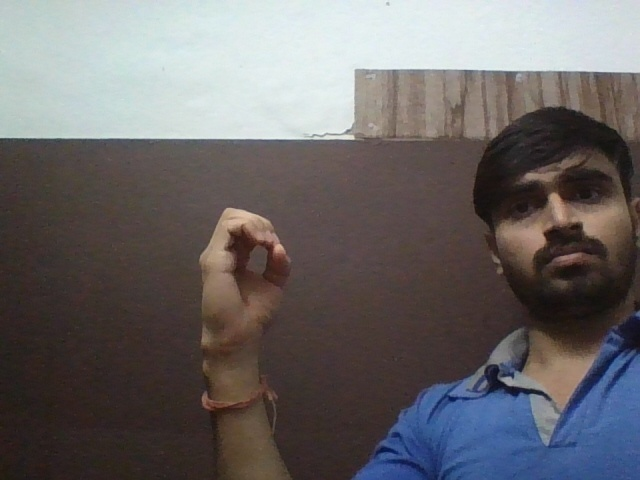O: (195, 201, 300, 363)
